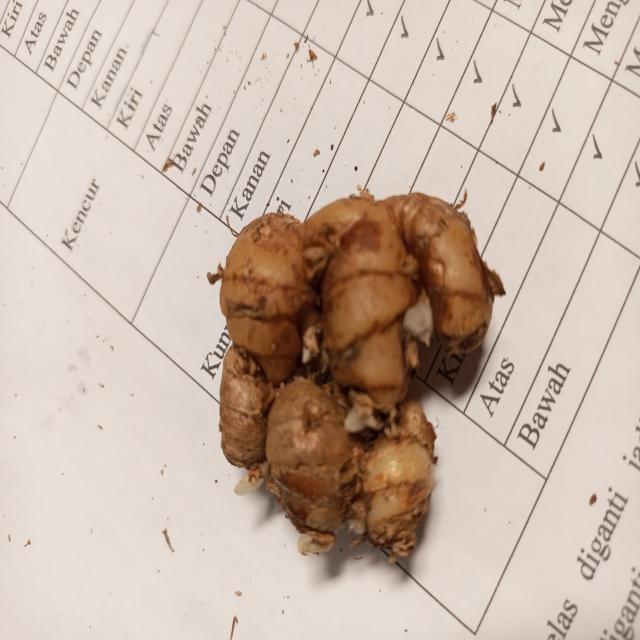ginger: (221, 192, 492, 560)
